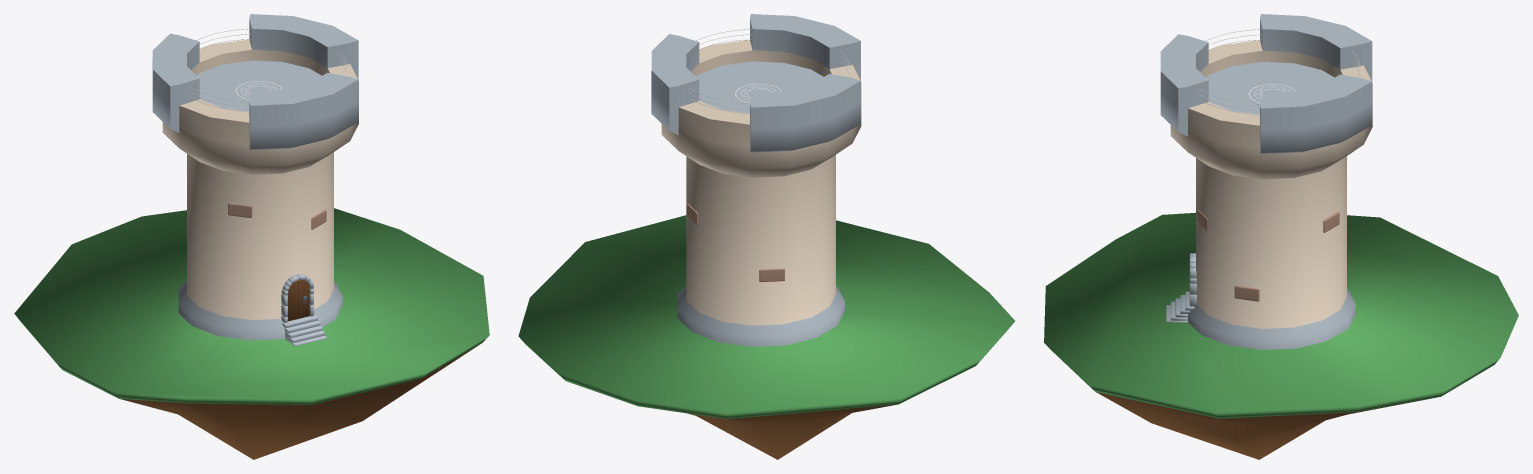
The model's file is Tower.fbx.
The picture shows the model from 3 angles, left to right: view 1: azimuth 30°, elevation 25°; view 2: azimuth 150°, elevation 25°; view 3: azimuth 270°, elevation 25°; orthographic projection. The views are drawn at different scales.
Visible parts, largest first — view 1: FloatingIsland, Tower, Door, Stairs, Brick; view 2: FloatingIsland, Tower, Brick; view 3: FloatingIsland, Tower, Brick, Stairs.
Part boxes in pixels (box(x1,y1,x2,y2)): FloatingIsland: box(14, 208, 489, 459); Tower: box(152, 14, 358, 340); Door: box(287, 280, 309, 321); Stairs: box(284, 320, 327, 346); Brick: box(186, 203, 326, 239); FloatingIsland: box(518, 215, 1015, 459); Tower: box(651, 14, 861, 346); Brick: box(686, 203, 784, 282); FloatingIsland: box(1044, 212, 1518, 459); Tower: box(1160, 14, 1372, 349); Brick: box(1196, 209, 1339, 301); Stairs: box(1166, 295, 1189, 322).
Size of the model in its own units: 1845 by 1697 by 1806.
